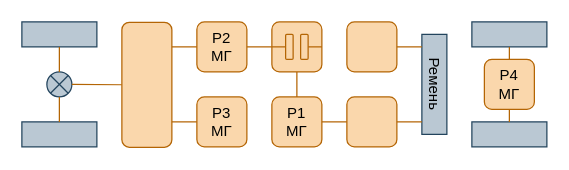
Image size: 569x170. Some labels were removed from this diagram. The shapes that lost their labels are listed below. From the top down, each one's box as (x1, y1, x2, y2) in pixels, then its label:
(346, 21, 397, 72): P0 МГ
(121, 21, 172, 147): Трансмиссия
(346, 96, 397, 147): ДВС
